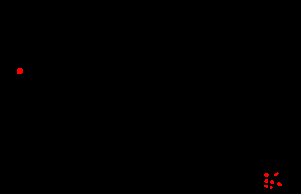Target: (17, 68, 23, 74), (274, 172, 279, 176), (264, 173, 269, 177), (277, 182, 282, 186), (264, 179, 268, 183), (270, 180, 274, 184), (264, 185, 268, 188), (270, 186, 273, 189)
